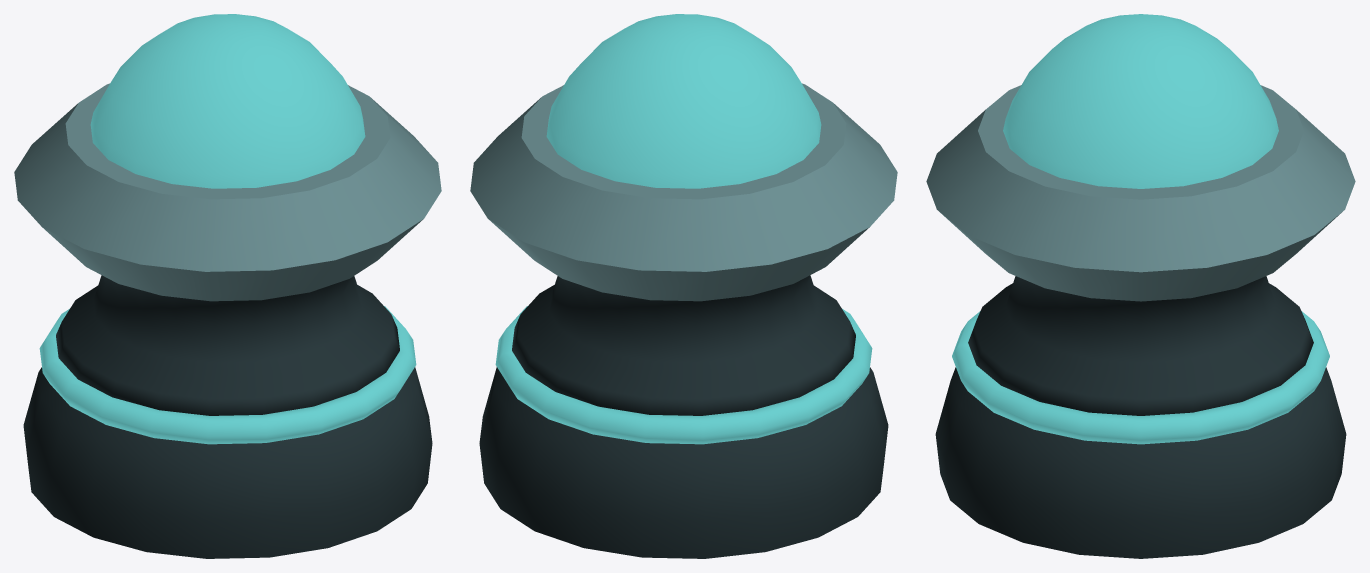
The model's file is CA_130_cosmodrome_auxiliary_light_small.glb.
The picture shows the model from 3 angles, left to right: view 1: azimuth 30°, elevation 25°; view 2: azimuth 150°, elevation 25°; view 3: azimuth 270°, elevation 25°; orthographic projection.
Visible parts, largest first — view 1: structure, lights; view 2: structure, lights; view 3: structure, lights.
Boxes of the visible parts, x1,y1,x2,y2 form: structure: (14, 83, 441, 558); lights: (39, 14, 416, 444); structure: (470, 83, 897, 558); lights: (495, 14, 872, 444); structure: (926, 85, 1355, 558); lights: (952, 14, 1329, 444).
Bounding box in the file's own units: 0.7142 × 0.8251 × 0.7142.
